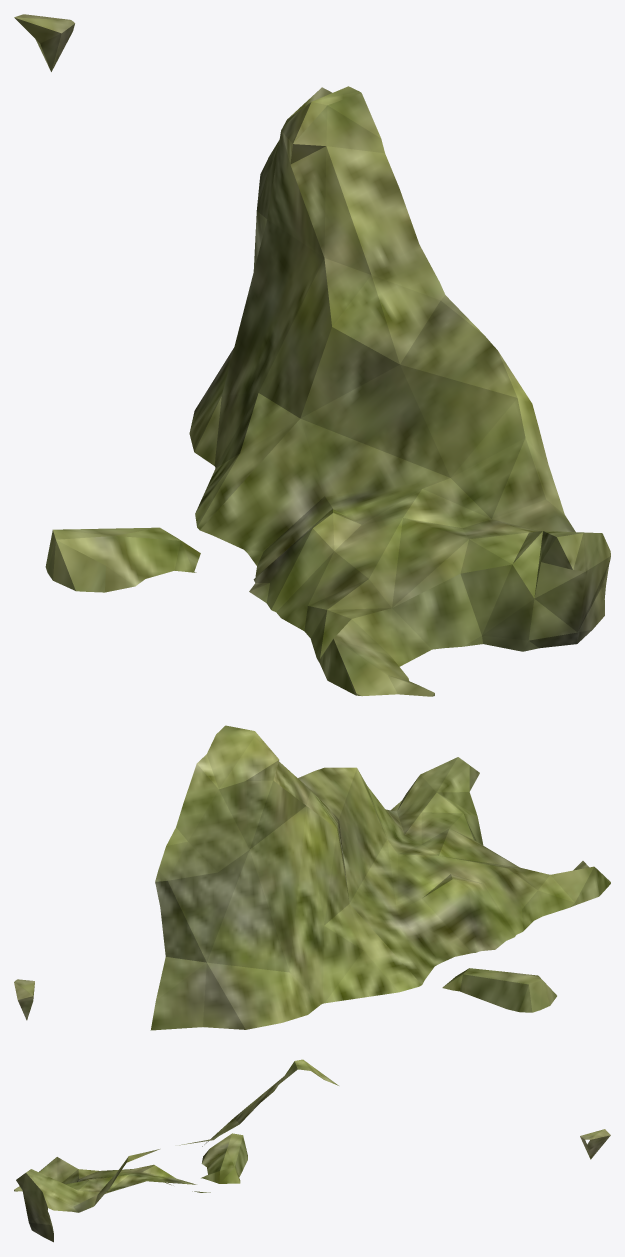
The picture shows the model from 3 angles, top to bottom: view 1: azimuth 30°, elevation 25°; view 2: azimuth 150°, elevation 25°; view 3: azimuth 270°, elevation 25°; orthographic projection. The views are drawn at different scales.
Size of the model in its own units: 0.8251 by 0.7192 by 2.25.
Materials: 1 (1 with a texture image).
